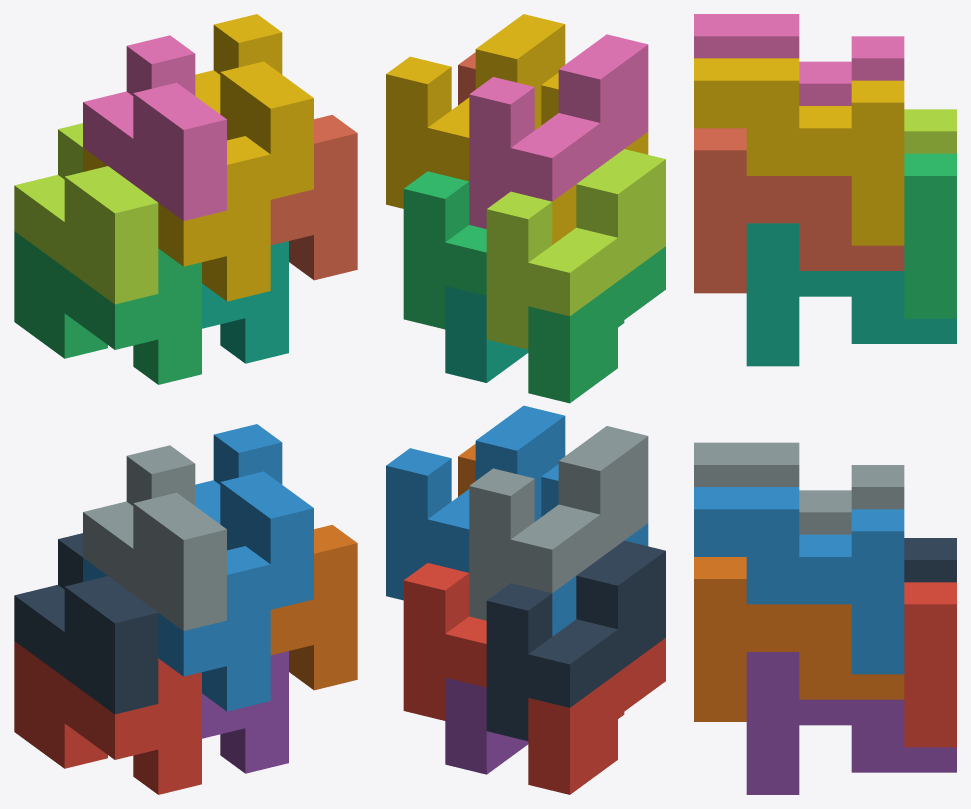
File: tiling.obj
3 views of the same model, side by side, from view 1: azimuth 30°, elevation 25°; view 2: azimuth 150°, elevation 25°; view 3: azimuth 270°, elevation 25° (orthographic). The views are drawn at different scales.
Visible parts, largest first — view 1: copy_2_domain_2, copy_2_domain_4, copy_1_domain_3, copy_1_domain_1, copy_2_domain_3, copy_2_domain_1, copy_2_domain_6, copy_2_domain_8, copy_1_domain_2, copy_1_domain_4, copy_1_domain_6, copy_1_domain_8 (+2 smaller); view 2: copy_2_domain_3, copy_2_domain_1, copy_2_domain_2, copy_2_domain_4, copy_2_domain_8, copy_2_domain_6, copy_2_domain_5, copy_2_domain_7, copy_1_domain_3, copy_1_domain_1, copy_1_domain_5, copy_1_domain_7 (+4 smaller); view 3: copy_2_domain_8, copy_2_domain_6, copy_1_domain_6, copy_1_domain_8, copy_1_domain_5, copy_1_domain_7, copy_2_domain_4, copy_2_domain_2, copy_2_domain_5, copy_2_domain_7, copy_2_domain_1, copy_2_domain_3.
Boxes of the visible parts, box(x1,y1,x2,y2) form: copy_2_domain_2: box(83, 445, 226, 630); copy_2_domain_4: box(83, 35, 226, 220); copy_1_domain_3: box(14, 231, 201, 384); copy_1_domain_1: box(14, 641, 201, 794); copy_2_domain_3: box(14, 123, 158, 304); copy_2_domain_1: box(14, 533, 158, 714); copy_2_domain_6: box(195, 424, 313, 609); copy_2_domain_8: box(195, 14, 313, 199); copy_1_domain_2: box(83, 546, 270, 711); copy_1_domain_4: box(83, 136, 270, 301); copy_1_domain_6: box(270, 524, 357, 690); copy_1_domain_8: box(270, 114, 357, 280); copy_2_domain_3: box(486, 149, 665, 349); copy_2_domain_1: box(486, 540, 665, 740); copy_2_domain_2: box(469, 426, 648, 620); copy_2_domain_4: box(469, 34, 648, 228); copy_2_domain_8: box(386, 14, 565, 208); copy_2_domain_6: box(386, 405, 565, 600); copy_2_domain_5: box(403, 563, 486, 720); copy_2_domain_7: box(403, 171, 486, 329); copy_1_domain_3: box(528, 246, 665, 403); copy_1_domain_1: box(528, 638, 665, 794); copy_1_domain_5: box(445, 677, 528, 774); copy_1_domain_7: box(445, 286, 528, 382); copy_2_domain_8: box(694, 58, 904, 245); copy_2_domain_6: box(694, 487, 904, 674); copy_1_domain_6: box(694, 557, 904, 721); copy_1_domain_8: box(694, 128, 904, 293); copy_1_domain_5: box(746, 652, 956, 794); copy_1_domain_7: box(746, 223, 956, 366); copy_2_domain_4: box(694, 14, 904, 105); copy_2_domain_2: box(694, 442, 904, 534); copy_2_domain_5: box(904, 582, 956, 747); copy_2_domain_7: box(904, 153, 956, 318); copy_2_domain_1: box(904, 538, 956, 582); copy_2_domain_3: box(904, 109, 956, 153).
Bounding box in the file's own units: 5 × 15 × 5.
